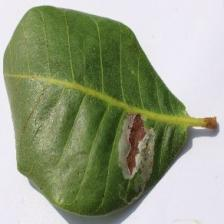leaf miner: (2, 4, 217, 218)
